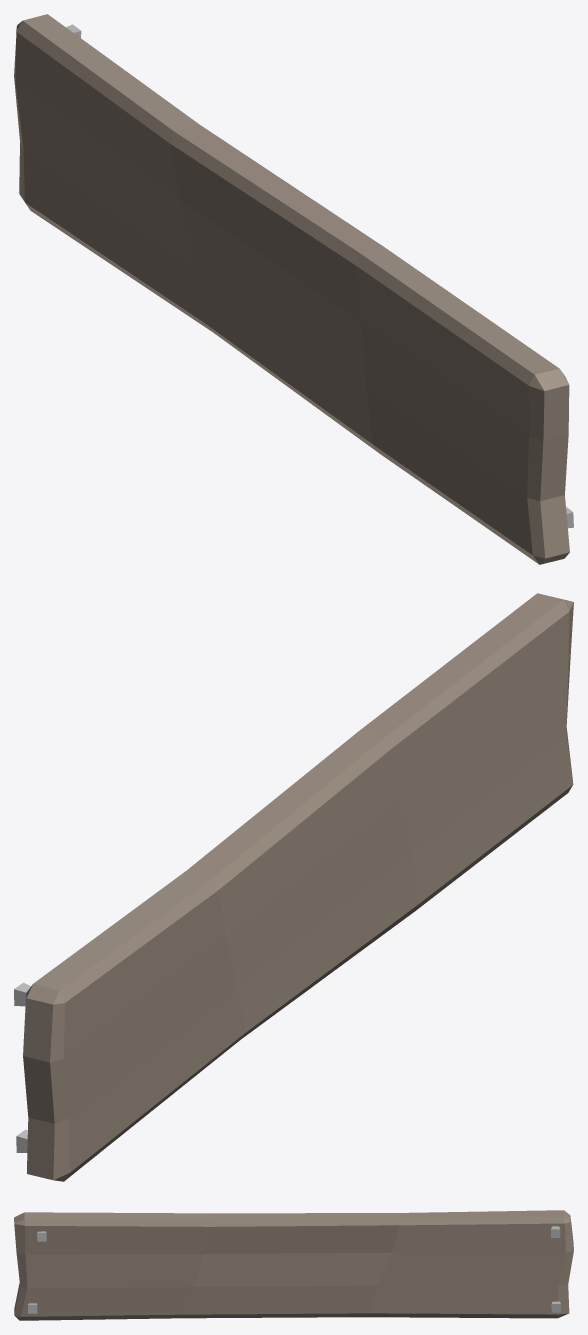
The model's file is Board.fbx.
The picture shows the model from 3 angles, top to bottom: view 1: azimuth 30°, elevation 25°; view 2: azimuth 150°, elevation 25°; view 3: azimuth 270°, elevation 25°; orthographic projection. The views are drawn at different scales.
Parts seen in each view (by area): view 1: Board; view 2: Board; view 3: Board.
Part boxes in pixels (left/top/right/bottom): Board: left=14, top=14, right=573, bottom=564; Board: left=14, top=593, right=573, bottom=1181; Board: left=14, top=1210, right=573, bottom=1320.
Size of the model in its own units: 16.16 by 45.24 by 221.
